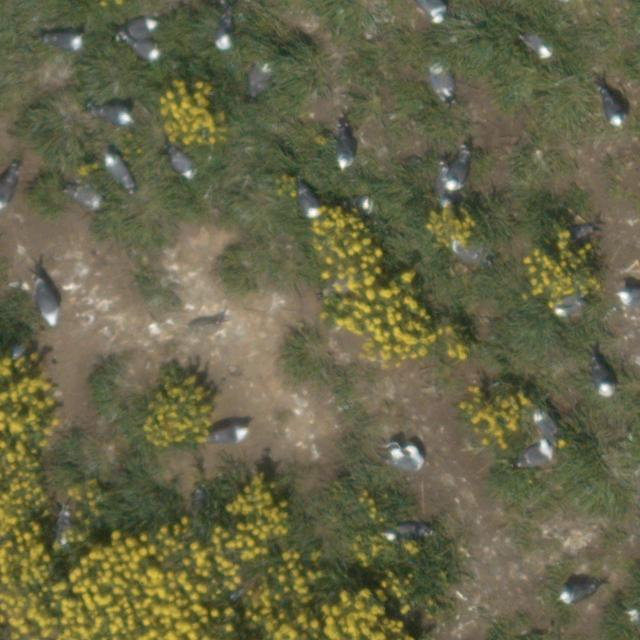umineko: (588, 349, 616, 399), (556, 577, 599, 605), (386, 439, 422, 466), (39, 284, 60, 324), (531, 409, 560, 432), (449, 153, 468, 187), (520, 442, 549, 464), (0, 172, 17, 208), (109, 157, 130, 185), (604, 95, 624, 124), (70, 190, 102, 208), (212, 427, 245, 444), (54, 510, 71, 543), (417, 0, 442, 22), (170, 152, 191, 178), (123, 18, 155, 35), (337, 132, 353, 165), (100, 108, 131, 125), (432, 71, 452, 97), (299, 188, 318, 215), (131, 42, 158, 61), (49, 35, 81, 51), (217, 17, 233, 48), (527, 38, 551, 56), (557, 298, 582, 314), (619, 290, 640, 306), (570, 224, 594, 238), (348, 196, 371, 210)
